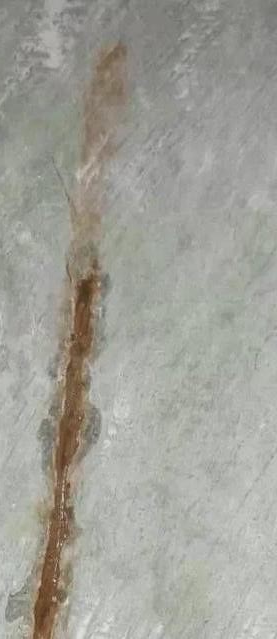Exposed reinforcement: (33, 276, 96, 639)
